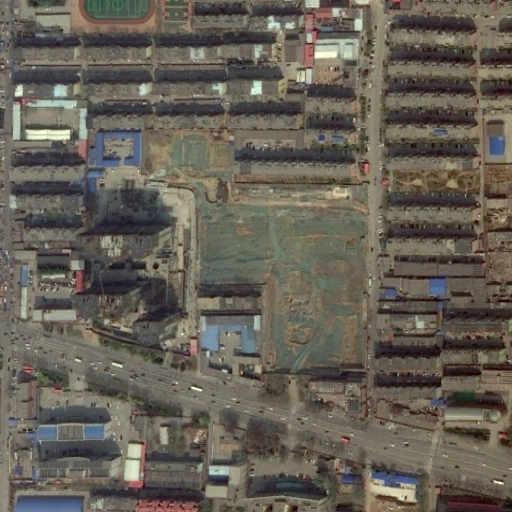cw: (140, 129, 369, 374)
